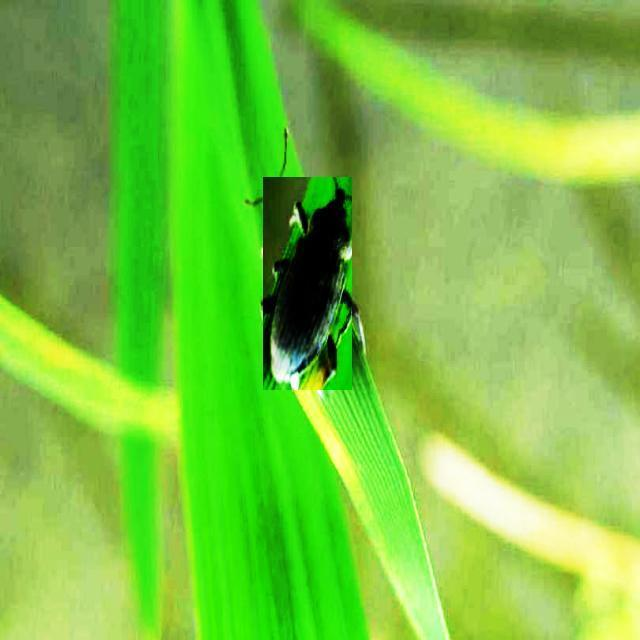rice-bug: (263, 177, 352, 390)
